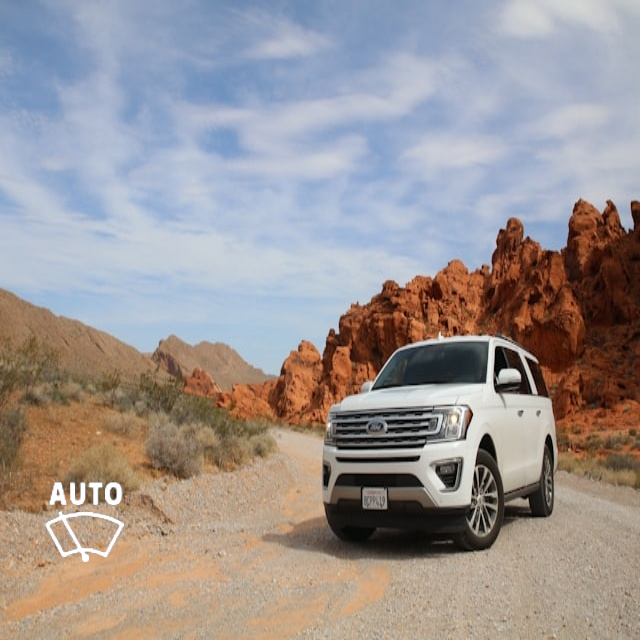symbol: (21, 459, 150, 588)
